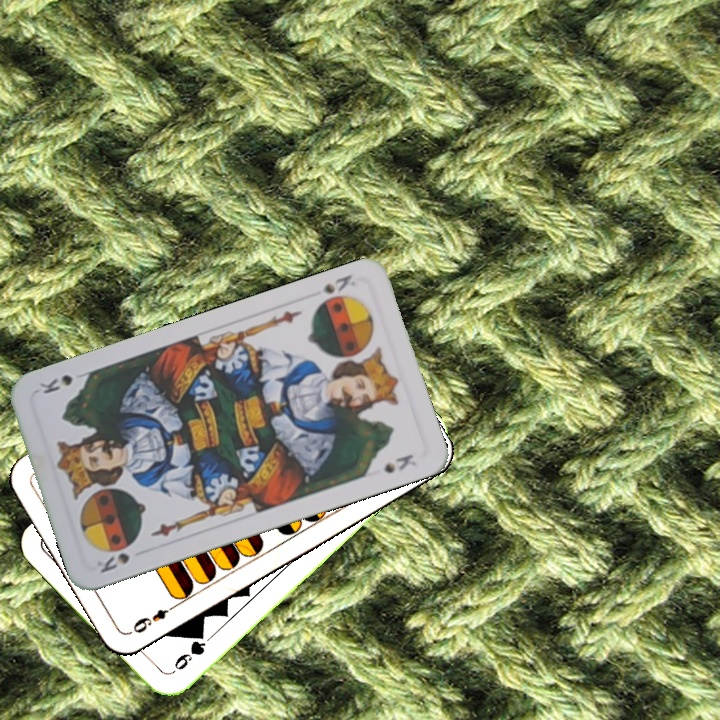E9: (128, 600, 180, 636)
G9: (166, 628, 208, 677)
SK: (92, 548, 133, 576), (319, 270, 358, 297)
